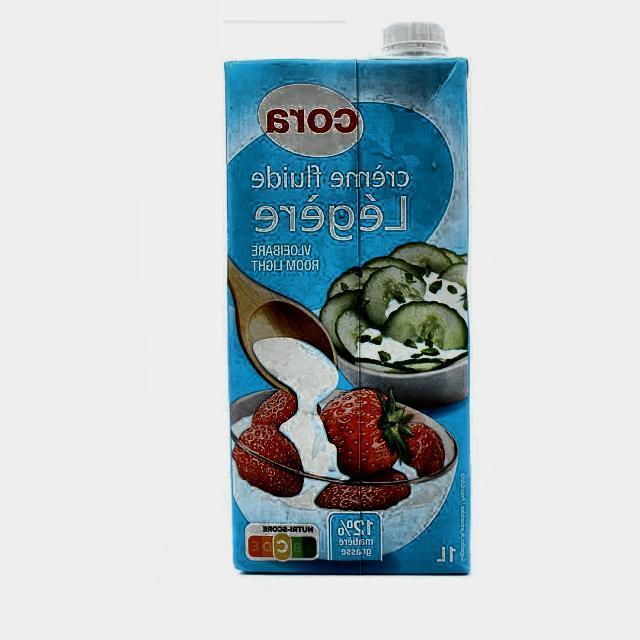cardboard: (225, 52, 472, 575)
